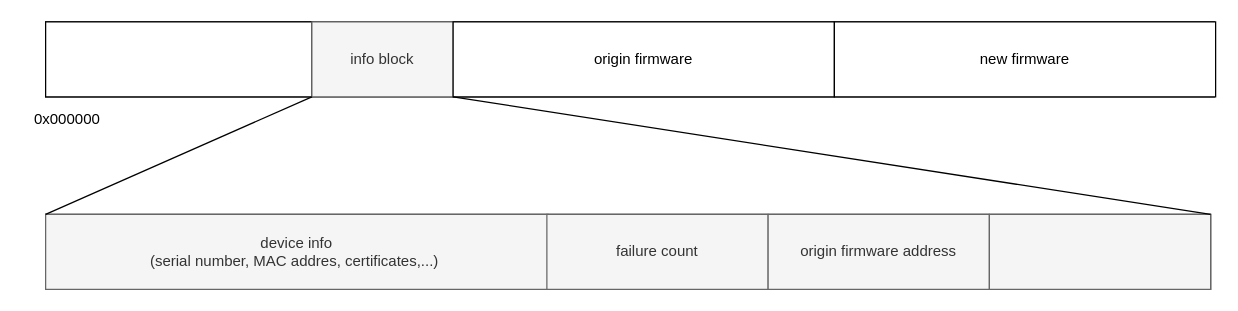
Image size: 1238x311. Some labels were removed from this diagram. The shapes that lost their labels are listed below. From the top down, each one's centre as x and y in pixels, then its label:
pixel 178 59: booting image
pixel 1099 251: new firmware address
